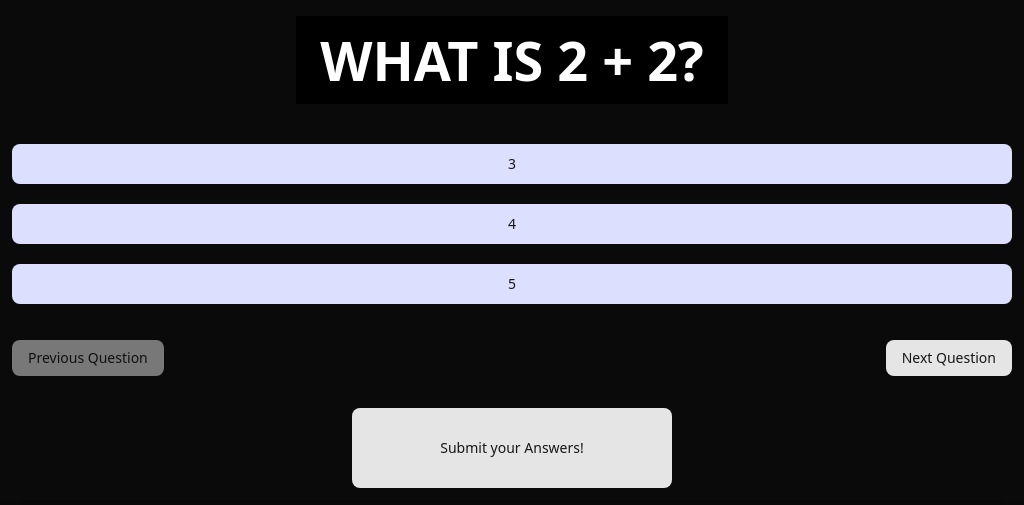
Test: QuestionCard Component › Navigation › should navigate back to previous question
The width and height of the screenshot is (1024, 505).
# Go to second question first
Click the button "Next Question" at point(949, 358), box [886,340,1012,376]
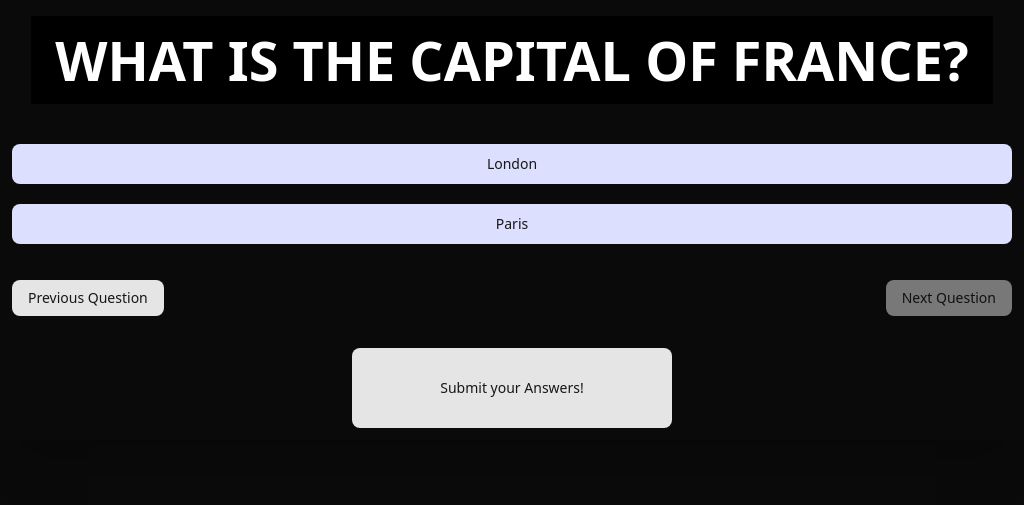
# Then go back
Click the button "Previous Question" at point(88, 298), box [12,280,164,316]
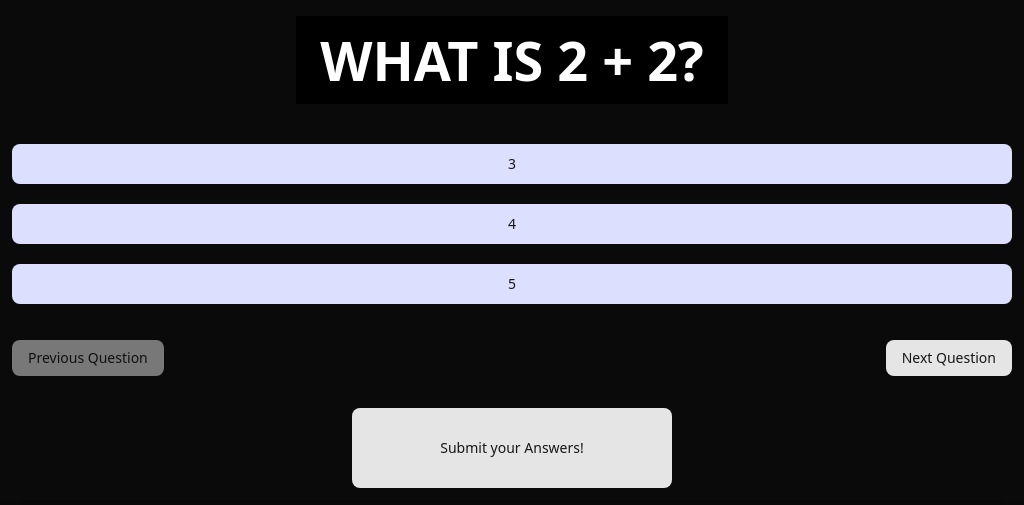
Now the heading "What is 2 + 2?" is shown, box [296,16,728,104]
